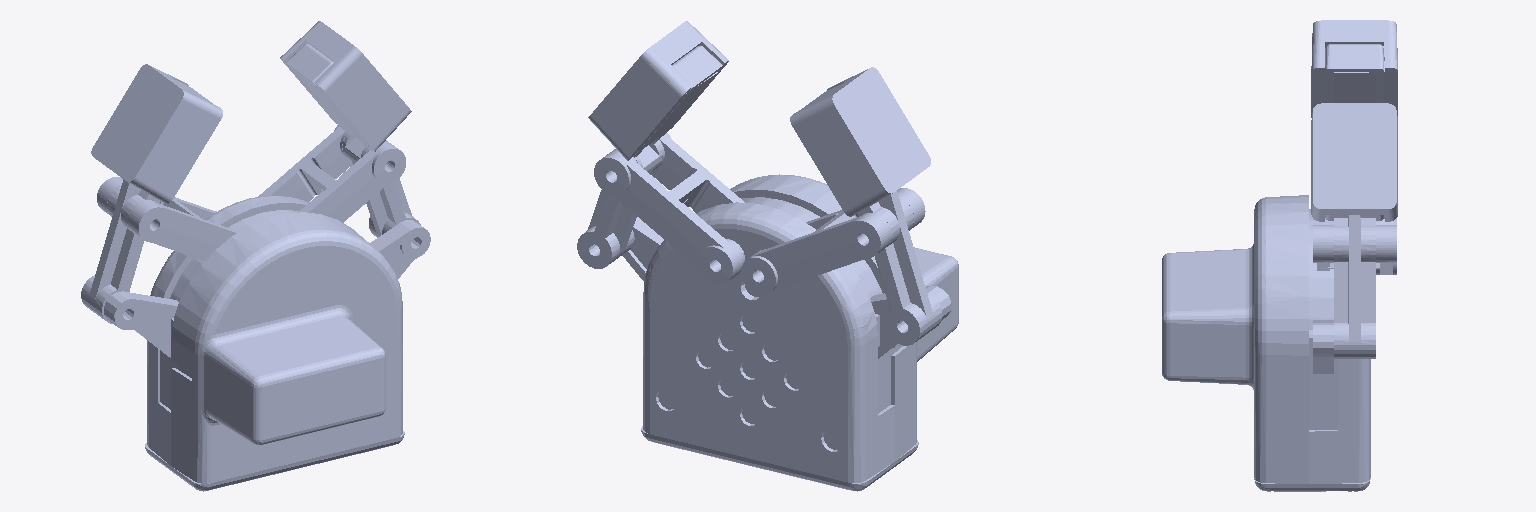
The robot description file, URDF, robot "newgripper.SLDASM":
<?xml version="1.0" encoding="utf-8"?>
<!-- This URDF was automatically created by SolidWorks to URDF Exporter! Originally created by [author] ([email redacted]) 
     Commit Version: 1.6.0-4-g7f85cfe  Build Version: 1.6.7995.38578
     For more information, please see http://wiki.ros.org/sw_urdf_exporter -->
<robot
  name="newgripper.SLDASM">
  <link
    name="base_link">
    <inertial>
      <origin
        xyz="-0.0514685849083307 -0.00207592386592245 -0.0067793475761827"
        rpy="0 0 0" />
      <mass
        value="0.100003709430337" />
      <inertia
        ixx="3.62152069629561E-05"
        ixy="1.77150833608694E-07"
        ixz="2.34940478960051E-06"
        iyy="3.79775046007899E-05"
        iyz="-5.24476040375276E-07"
        izz="4.71095268950501E-05" />
    </inertial>
    <visual>
      <origin
        xyz="0 0 0"
        rpy="0 0 0" />
      <geometry>
        <mesh
          filename="package://newgripper.SLDASM/meshes/base_link.STL" />
      </geometry>
      <material
        name="">
        <color
          rgba="0.792156862745098 0.819607843137255 0.933333333333333 1" />
      </material>
    </visual>
    <collision>
      <origin
        xyz="0 0 0"
        rpy="0 0 0" />
      <geometry>
        <mesh
          filename="package://newgripper.SLDASM/meshes/base_link.STL" />
      </geometry>
    </collision>
  </link>
  <link
    name="right1_Link">
    <inertial>
      <origin
        xyz="0.0185683377771468 0.0272759095494035 0.00379994144433833"
        rpy="0 0 0" />
      <mass
        value="0.00270782116655283" />
      <inertia
        ixx="2.42002734637629E-07"
        ixy="-1.41091308769472E-07"
        ixz="1.6319145661919E-13"
        iyy="3.99488720480734E-07"
        iyz="-3.46398733389828E-14"
        izz="3.58217535735457E-07" />
    </inertial>
    <visual>
      <origin
        xyz="0 0 0"
        rpy="0 0 0" />
      <geometry>
        <mesh
          filename="package://newgripper.SLDASM/meshes/right1_Link.STL" />
      </geometry>
      <material
        name="">
        <color
          rgba="0.792156862745098 0.819607843137255 0.933333333333333 1" />
      </material>
    </visual>
    <collision>
      <origin
        xyz="0 0 0"
        rpy="0 0 0" />
      <geometry>
        <mesh
          filename="package://newgripper.SLDASM/meshes/right1_Link.STL" />
      </geometry>
    </collision>
  </link>
  <joint
    name="right1_joint"
    type="fixed">
    <origin
      xyz="-0.0371161825783951 0.0242812007400845 0.0265664156498648"
      rpy="-1.5707963267949 -1.04790341801635 3.14159265358979" />
    <parent
      link="base_link" />
    <child
      link="right1_Link" />
    <axis
      xyz="0 0 0" />
  </joint>
  <link
    name="right2_Link">
    <inertial>
      <origin
        xyz="0.0277965505902548 0.0472605150230175 0.00369956534362629"
        rpy="0 0 0" />
      <mass
        value="0.00860146179590705" />
      <inertia
        ixx="2.03871626940763E-06"
        ixy="4.61757801137032E-07"
        ixz="-2.95109582949122E-09"
        iyy="4.9837667684759E-07"
        iyz="5.54450952077823E-09"
        izz="2.05631868809505E-06" />
    </inertial>
    <visual>
      <origin
        xyz="0 0 0"
        rpy="0 0 0" />
      <geometry>
        <mesh
          filename="package://newgripper.SLDASM/meshes/right2_Link.STL" />
      </geometry>
      <material
        name="">
        <color
          rgba="0.792156862745098 0.819607843137255 0.933333333333333 1" />
      </material>
    </visual>
    <collision>
      <origin
        xyz="0 0 0"
        rpy="0 0 0" />
      <geometry>
        <mesh
          filename="package://newgripper.SLDASM/meshes/right2_Link.STL" />
      </geometry>
    </collision>
  </link>
  <joint
    name="right2_joint"
    type="fixed">
    <origin
      xyz="-0.129675732833354 0.024250000000001 0.0274590489837071"
      rpy="1.5707963267949 0.639964541810117 0" />
    <parent
      link="base_link" />
    <child
      link="right2_Link" />
    <axis
      xyz="0 0 0" />
  </joint>
  <link
    name="left1_Link">
    <inertial>
      <origin
        xyz="-0.0196773759979769 0.0270872017959258 0.00380005923123718"
        rpy="0 0 0" />
      <mass
        value="0.00270782116606697" />
      <inertia
        ixx="2.38124071396214E-07"
        ixy="1.38855965458472E-07"
        ixz="-9.93879799576037E-14"
        iyy="4.03366742544527E-07"
        iyz="-8.54002440358066E-14"
        izz="3.58216894487582E-07" />
    </inertial>
    <visual>
      <origin
        xyz="0 0 0"
        rpy="0 0 0" />
      <geometry>
        <mesh
          filename="package://newgripper.SLDASM/meshes/left1_Link.STL" />
      </geometry>
      <material
        name="">
        <color
          rgba="0.792156862745098 0.819607843137255 0.933333333333333 1" />
      </material>
    </visual>
    <collision>
      <origin
        xyz="0 0 0"
        rpy="0 0 0" />
      <geometry>
        <mesh
          filename="package://newgripper.SLDASM/meshes/left1_Link.STL" />
      </geometry>
    </collision>
  </link>
  <joint
    name="left1_joint"
    type="fixed">
    <origin
      xyz="-0.0650689798755126 0.0242812007400845 0.025700037528446"
      rpy="-1.5707963267949 1.04790341801632 -3.14159265358979" />
    <parent
      link="base_link" />
    <child
      link="left1_Link" />
    <axis
      xyz="0 0 0" />
  </joint>
  <link
    name="left2_Link">
    <inertial>
      <origin
        xyz="-0.0289871773352326 0.0469312429307748 0.00373644493411623"
        rpy="0 0 0" />
      <mass
        value="0.00865910166790297" />
      <inertia
        ixx="2.04479045322804E-06"
        ixy="-4.6310864683723E-07"
        ixz="1.78990328238252E-09"
        iyy="5.01223087846219E-07"
        iyz="3.50879165379056E-09"
        izz="2.06171644906757E-06" />
    </inertial>
    <visual>
      <origin
        xyz="0 0 0"
        rpy="0 0 0" />
      <geometry>
        <mesh
          filename="package://newgripper.SLDASM/meshes/left2_Link.STL" />
      </geometry>
      <material
        name="">
        <color
          rgba="0.792156862745098 0.819607843137255 0.933333333333333 1" />
      </material>
    </visual>
    <collision>
      <origin
        xyz="0 0 0"
        rpy="0 0 0" />
      <geometry>
        <mesh
          filename="package://newgripper.SLDASM/meshes/left2_Link.STL" />
      </geometry>
    </collision>
  </link>
  <joint
    name="left2_joint"
    type="fixed">
    <origin
      xyz="0.0285274127442941 0.024250000000001 0.0288549103772384"
      rpy="1.5707963267949 -0.639964541810318 0" />
    <parent
      link="base_link" />
    <child
      link="left2_Link" />
    <axis
      xyz="0 0 0" />
  </joint>
</robot>

--- What the picture shows (computed from the rendered views, not written in the file) ---
3 views of the same robot in one strip: view 1: azimuth 30°, elevation 25°; view 2: azimuth 150°, elevation 25°; view 3: azimuth 270°, elevation 25° (orthographic).
Robot: newgripper.SLDASM — 5 links, 4 joints (4 fixed); root link base_link; default pose: every joint at zero.
Visible links, largest first — view 1: base_link, right2_Link, left2_Link, left1_Link, right1_Link; view 2: base_link, right2_Link, left2_Link, left1_Link, right1_Link; view 3: base_link, left2_Link, right2_Link, left1_Link.
Boxes of the visible links, x1,y1,x2,y2 form: base_link: [104, 195, 430, 491]; right2_Link: [81, 64, 222, 323]; left2_Link: [280, 21, 420, 237]; left1_Link: [258, 125, 405, 222]; right1_Link: [97, 177, 237, 260]; base_link: [622, 174, 958, 491]; right2_Link: [790, 67, 941, 345]; left2_Link: [577, 21, 728, 268]; left1_Link: [594, 133, 744, 284]; right1_Link: [741, 188, 925, 294]; base_link: [1162, 195, 1370, 491]; left2_Link: [1311, 103, 1397, 358]; right2_Link: [1311, 20, 1397, 117]; left1_Link: [1313, 225, 1396, 274].
Size in the robot's own frame: 0.0881 by 0.0562 by 0.1002 metres.
5 mesh visuals loaded from 5 distinct referenced files (5 binary STL).